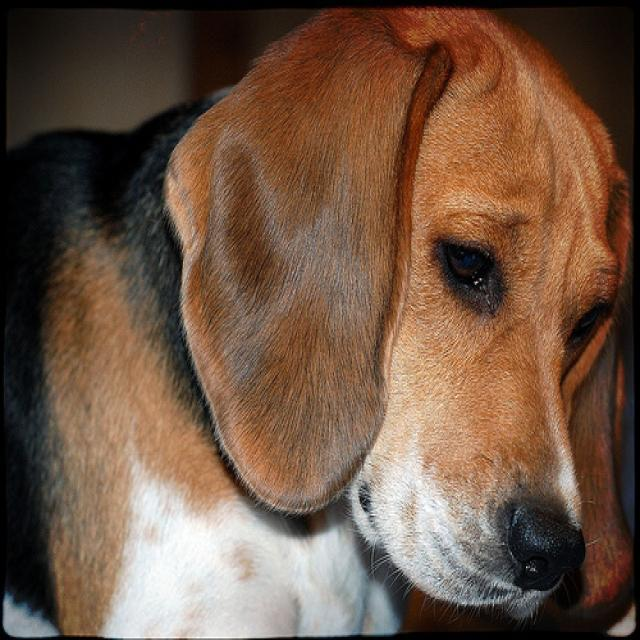dog-beagle: (1, 2, 637, 637)
